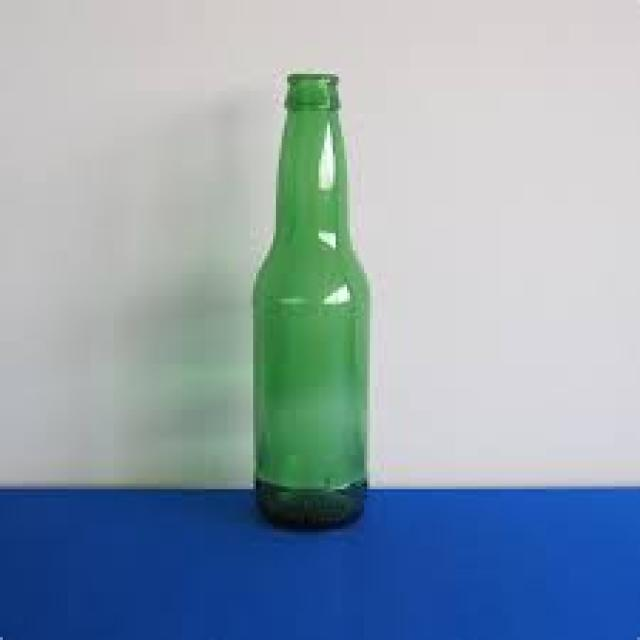glass: (250, 71, 367, 526)
